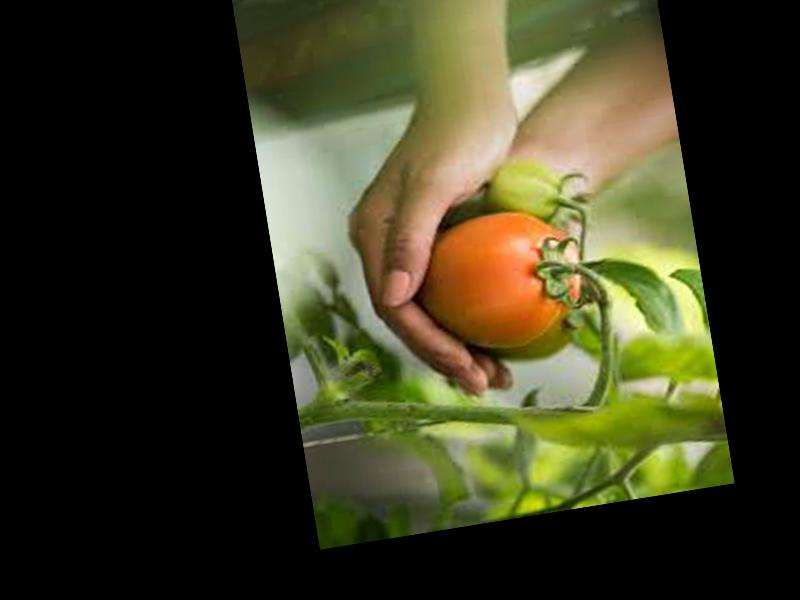Tomato: (416, 202, 589, 357)
